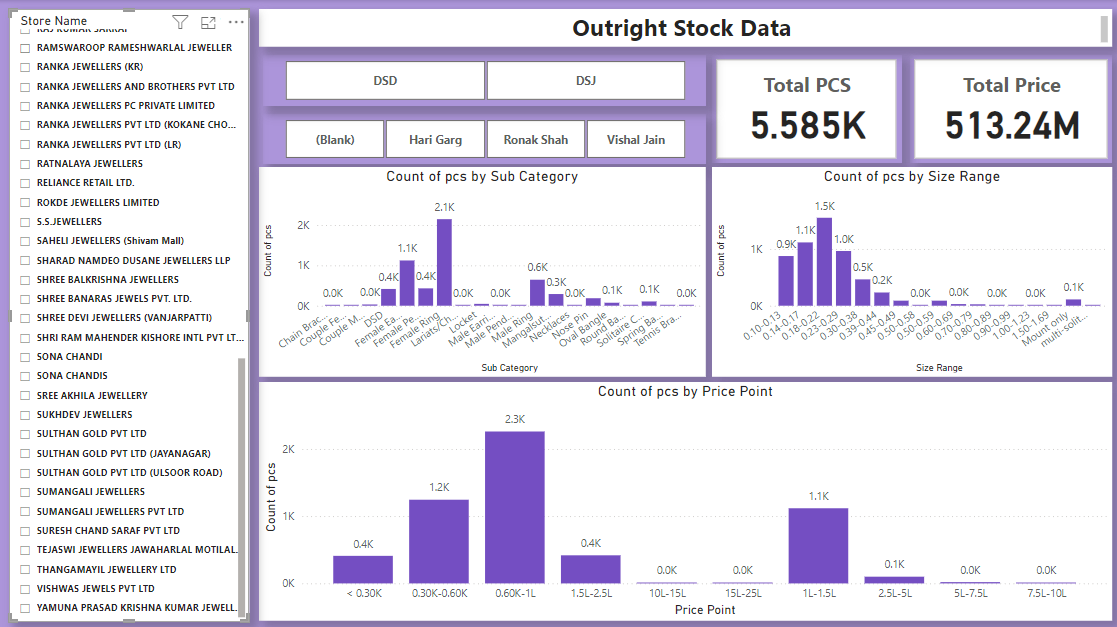

What the dashboard file says about the page in this screenshot:
{"tool":"powerbi","page":{"name":"Page 1","canvas":[1280,720],"ordinal":0},"visuals":[{"type":"cardVisual","title":"Total PCS","fields":{"Data":["Stock Statement.Uid"]},"box":[810.9,63,215.9,123.4],"z":0},{"type":"cardVisual","fields":{"Data":["Stock Statement.Tag Price"]},"box":[1037.1,63,230,123.4],"z":1000},{"type":"slicer","fields":{"Values":["Stock Statement.Store Name"]},"box":[10.3,10.3,273.7,697.8],"z":2000},{"type":"slicer","fields":{"Values":["Stock Statement.NEW ZMH"]},"box":[299.4,129.8,505.1,56.5],"z":3000},{"type":"clusteredColumnChart","fields":{"Category":["Stock Statement.Sub Category"],"Y":["Stock Statement.Uid"]},"box":[295.6,190.2,508.9,239],"z":4000},{"type":"clusteredColumnChart","fields":{"Category":["Stock Statement.Size Range"],"Y":["Stock Statement.Uid"]},"box":[810.9,190.2,456.2,239],"z":5000},{"type":"slicer","fields":{"Values":["Stock Statement.DSD / DSJ"]},"box":[299.4,63,505.1,57.8],"z":6000},{"type":"textbox","box":[295.1,10.3,971.8,43.3],"z":7000},{"type":"clusteredColumnChart","fields":{"Y":["Stock Statement.Uid"],"Category":["Stock Statement.Price Point"]},"box":[295.6,435.7,971.6,272.4],"z":8000}]}

Visuals, with their boxes in screenshot pixels (x1, y1, x2, y2), scaled from the page's 1280x720 canvas onto the 1117x627 screenshot:
"Total PCS" cardVisual: <box>708,55,896,162</box>
cardVisual - Stock Statement.Tag Price: <box>905,55,1106,162</box>
slicer - Stock Statement.Store Name: <box>9,9,248,617</box>
slicer - Stock Statement.NEW ZMH: <box>261,113,702,162</box>
clusteredColumnChart - Stock Statement.Sub Category x Stock Statement.Uid: <box>258,166,702,374</box>
clusteredColumnChart - Stock Statement.Size Range x Stock Statement.Uid: <box>708,166,1106,374</box>
slicer - Stock Statement.DSD / DSJ: <box>261,55,702,105</box>
textbox: <box>258,9,1106,47</box>
clusteredColumnChart - Stock Statement.Uid x Stock Statement.Price Point: <box>258,379,1106,617</box>
